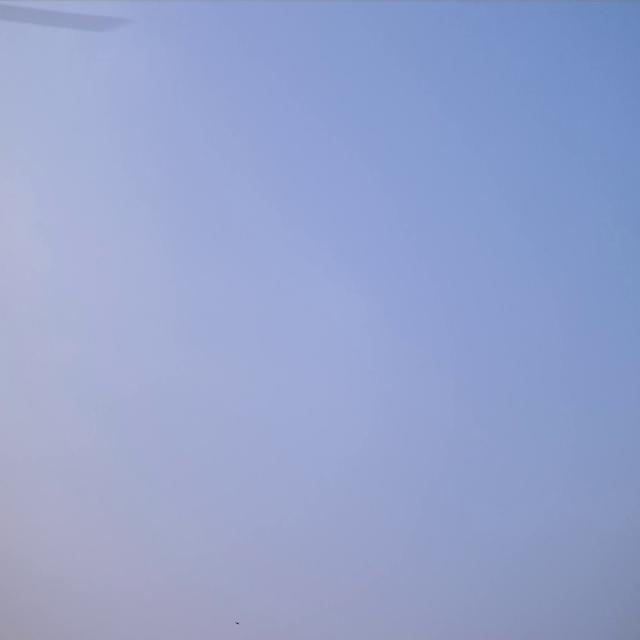UAV: (234, 621, 240, 625)
